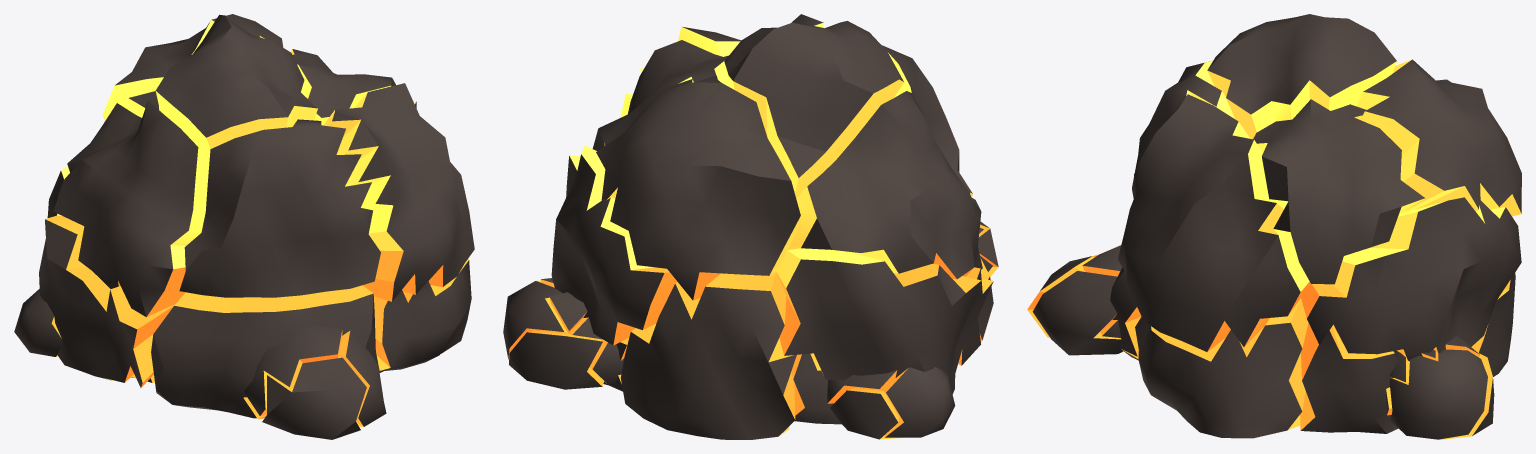
The model's file is rock_lava_a.glb.
3 renders of one model, left to right at view 1: azimuth 30°, elevation 25°; view 2: azimuth 150°, elevation 25°; view 3: azimuth 270°, elevation 25°, orthographic. The views are drawn at different scales.
Parts seen in each view (by area): view 1: rock_lava_a; view 2: rock_lava_a; view 3: rock_lava_a.
Boxes of the visible parts, x1,y1,x2,y2 form: rock_lava_a: [14, 14, 474, 439]; rock_lava_a: [503, 14, 998, 439]; rock_lava_a: [1027, 14, 1521, 439].
Size of the model in its own units: 3.37 by 2.7 by 3.59.
